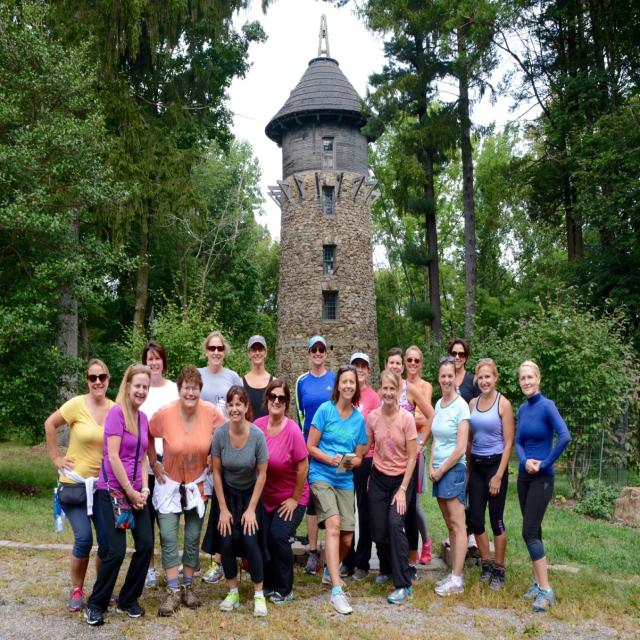body: (146, 363, 228, 619), (43, 358, 120, 614), (83, 360, 155, 626), (177, 331, 244, 585), (200, 384, 270, 618), (306, 362, 368, 616), (512, 360, 572, 615), (250, 377, 311, 606), (377, 346, 436, 581), (362, 368, 418, 605), (465, 356, 515, 595), (427, 355, 472, 596), (294, 334, 338, 575), (338, 351, 383, 582), (139, 340, 180, 588), (443, 336, 483, 551), (404, 344, 434, 566), (238, 335, 279, 423)
